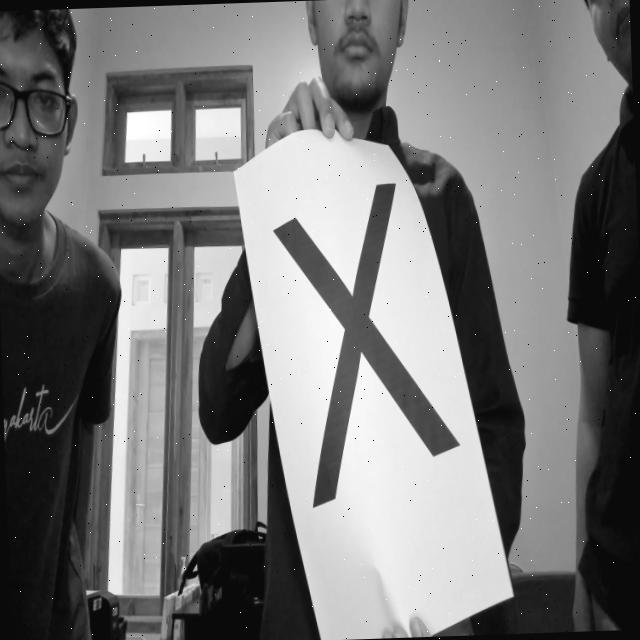x: (270, 159, 472, 539)
